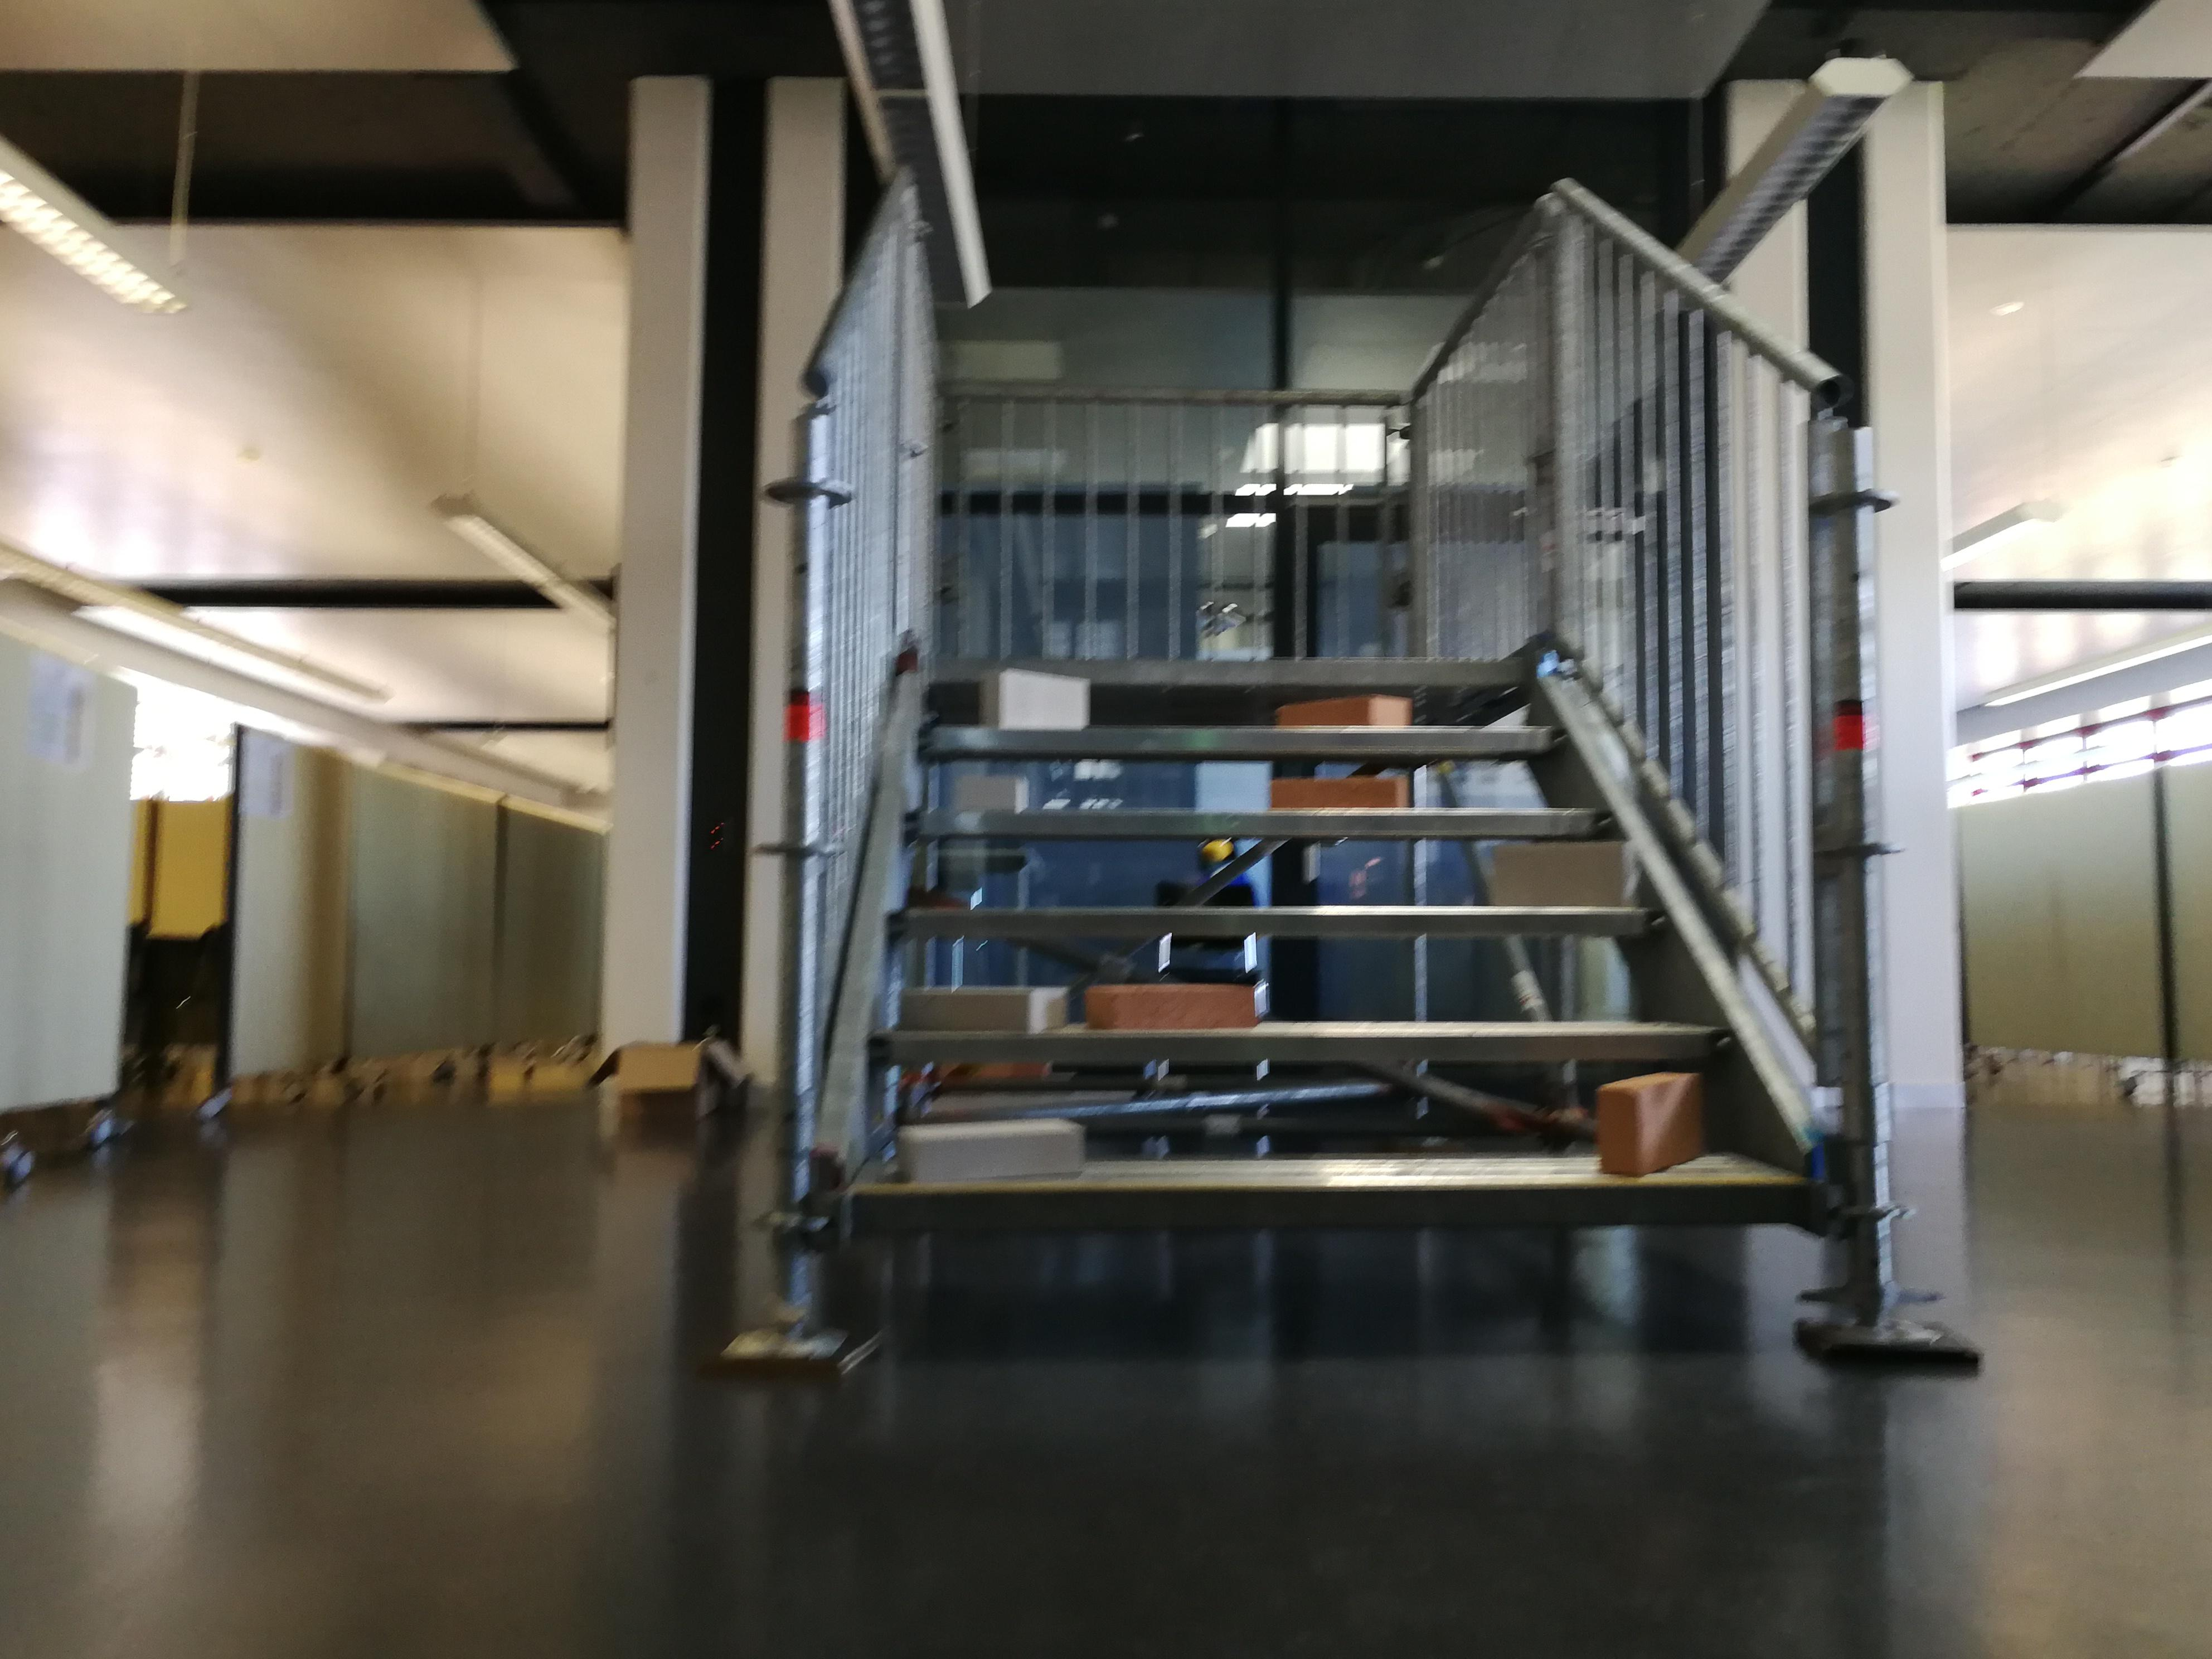brick: (900, 1119, 1078, 1183), (1601, 1073, 1703, 1173), (1494, 840, 1634, 906), (895, 986, 1068, 1030), (1087, 985, 1252, 1030), (982, 669, 1085, 727), (1270, 774, 1407, 807), (1278, 695, 1406, 725), (951, 779, 1029, 810)
edge: (846, 1183, 1818, 1230), (869, 1026, 1737, 1061), (888, 910, 1670, 936), (914, 721, 1569, 751), (894, 810, 1625, 836), (930, 657, 1536, 685)
stairs: (704, 169, 1982, 1385)
steps: (827, 638, 1832, 1248)
